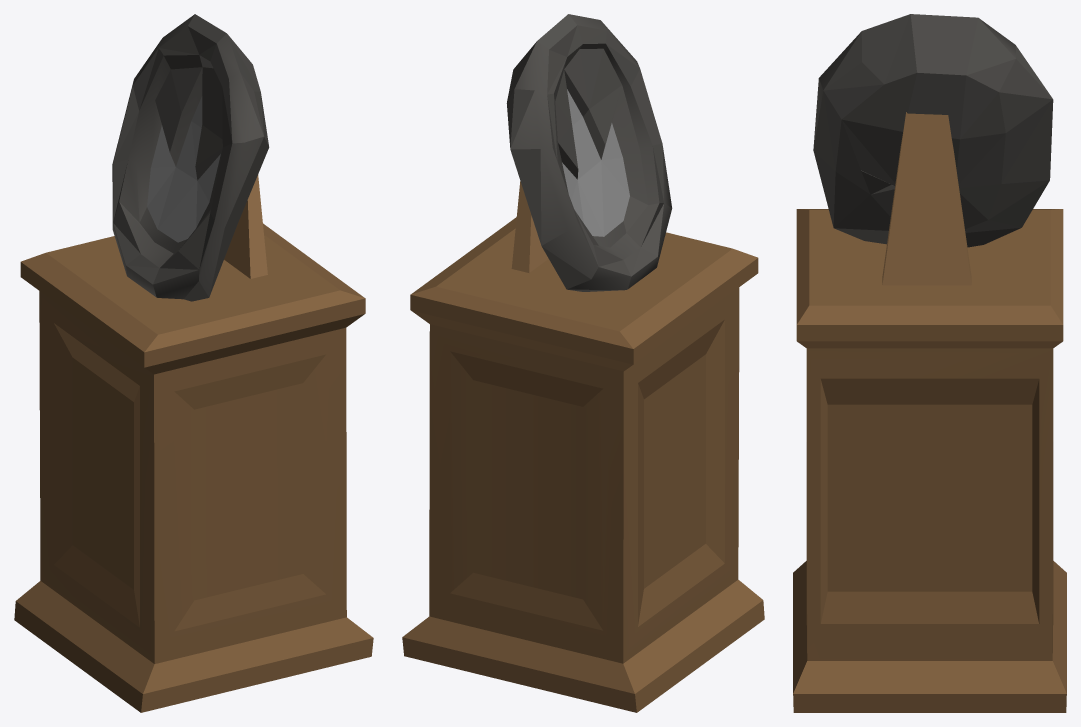
File: gem 5 display.fbx
3 views of the same model, side by side, from view 1: azimuth 30°, elevation 25°; view 2: azimuth 150°, elevation 25°; view 3: azimuth 270°, elevation 25° (orthographic). The views are drawn at different scales.
Visible parts, largest first — view 1: pCube40, pCube41, pCube42; view 2: pCube40, pCube41, pCube42; view 3: pCube40, pCube41, pCube42.
Boxes of the visible parts, x1,y1,x2,y2 form: pCube40: (14,223,373,712); pCube41: (112,14,269,301); pCube42: (224,174,267,278); pCube40: (402,217,764,712); pCube41: (506,14,672,291); pCube42: (511,181,548,272); pCube40: (793,209,1066,712); pCube41: (813,14,1053,247); pCube42: (882,112,971,285).
Size of the model in its own units: 1.86 by 4.63 by 1.76.
